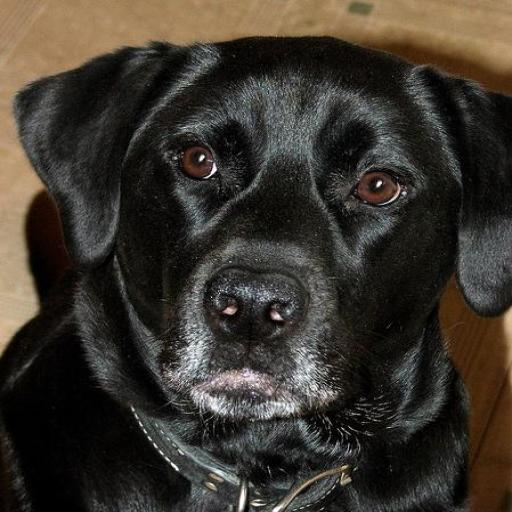dog_face: (7, 32, 495, 424)
